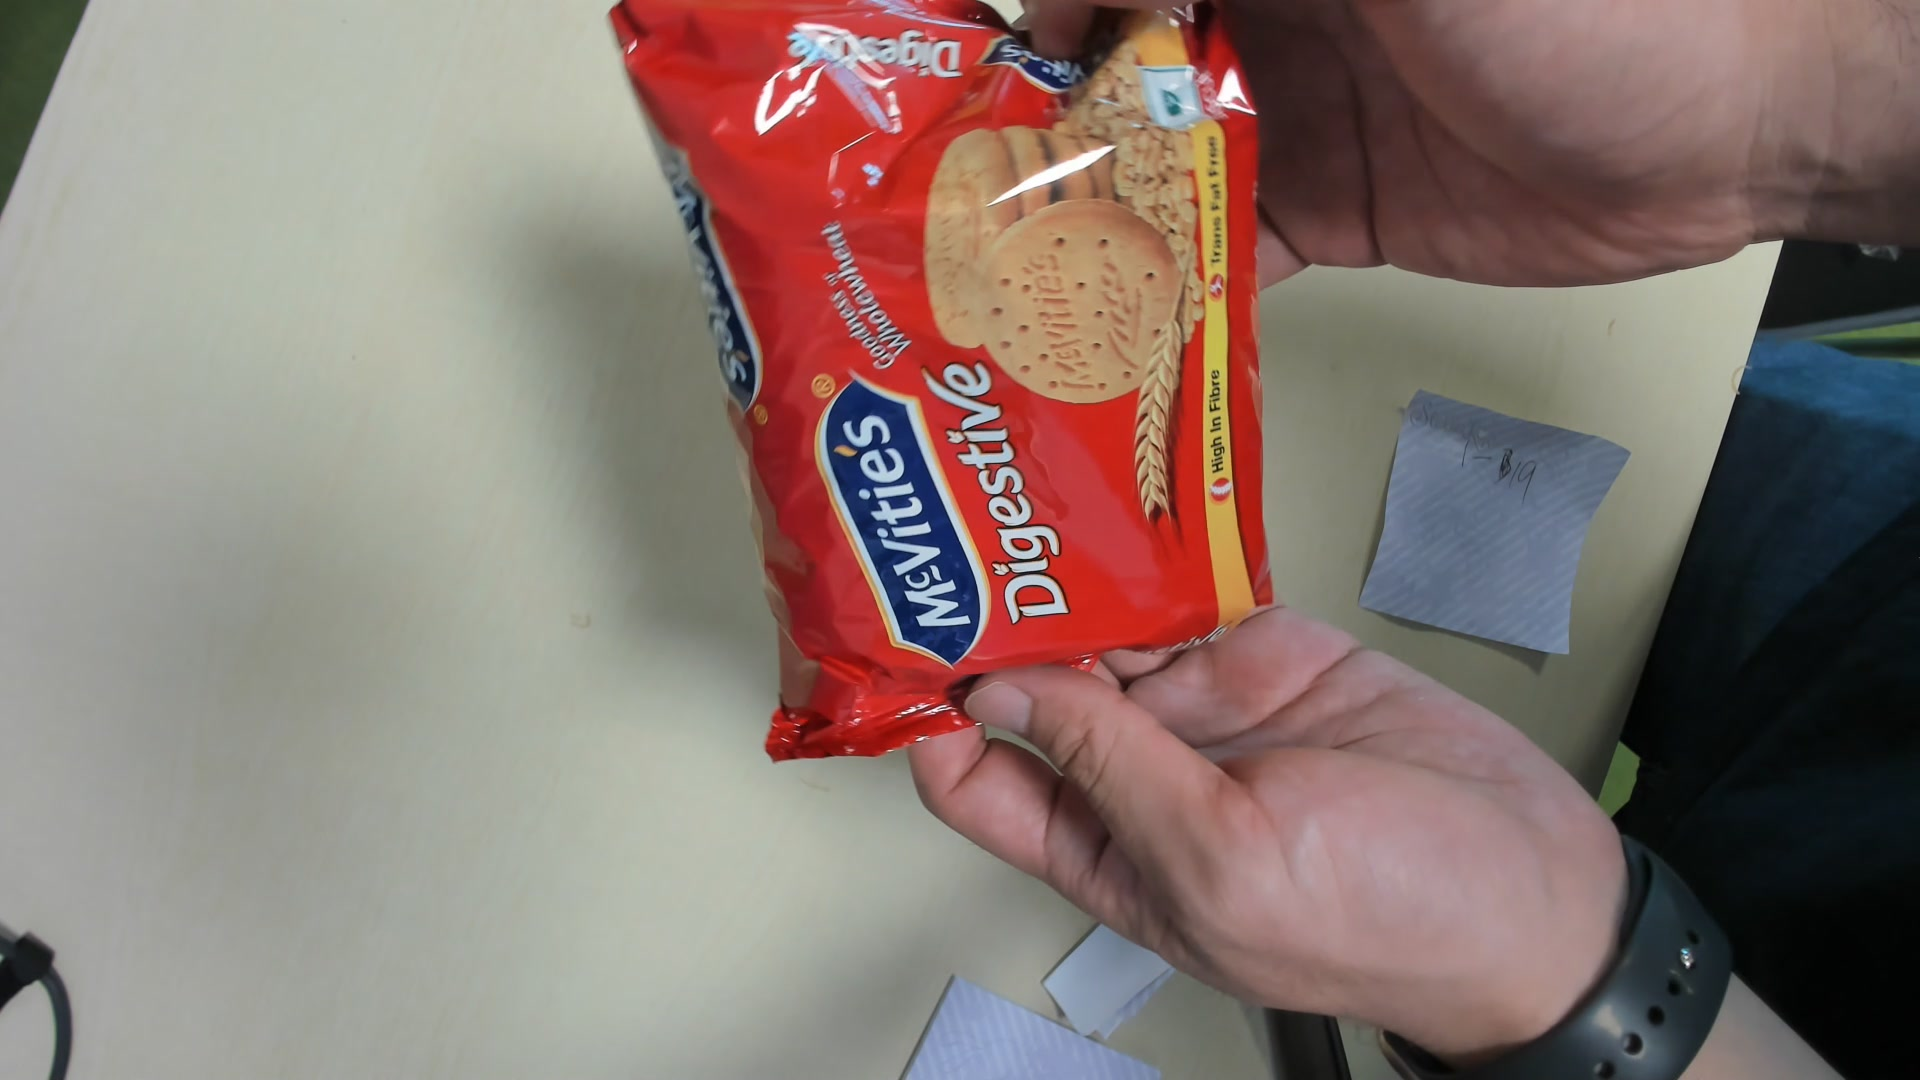BiscuitsCrackersCookies_200-299g_NonHalal_NonHealthy: (604, 1, 1283, 764)
